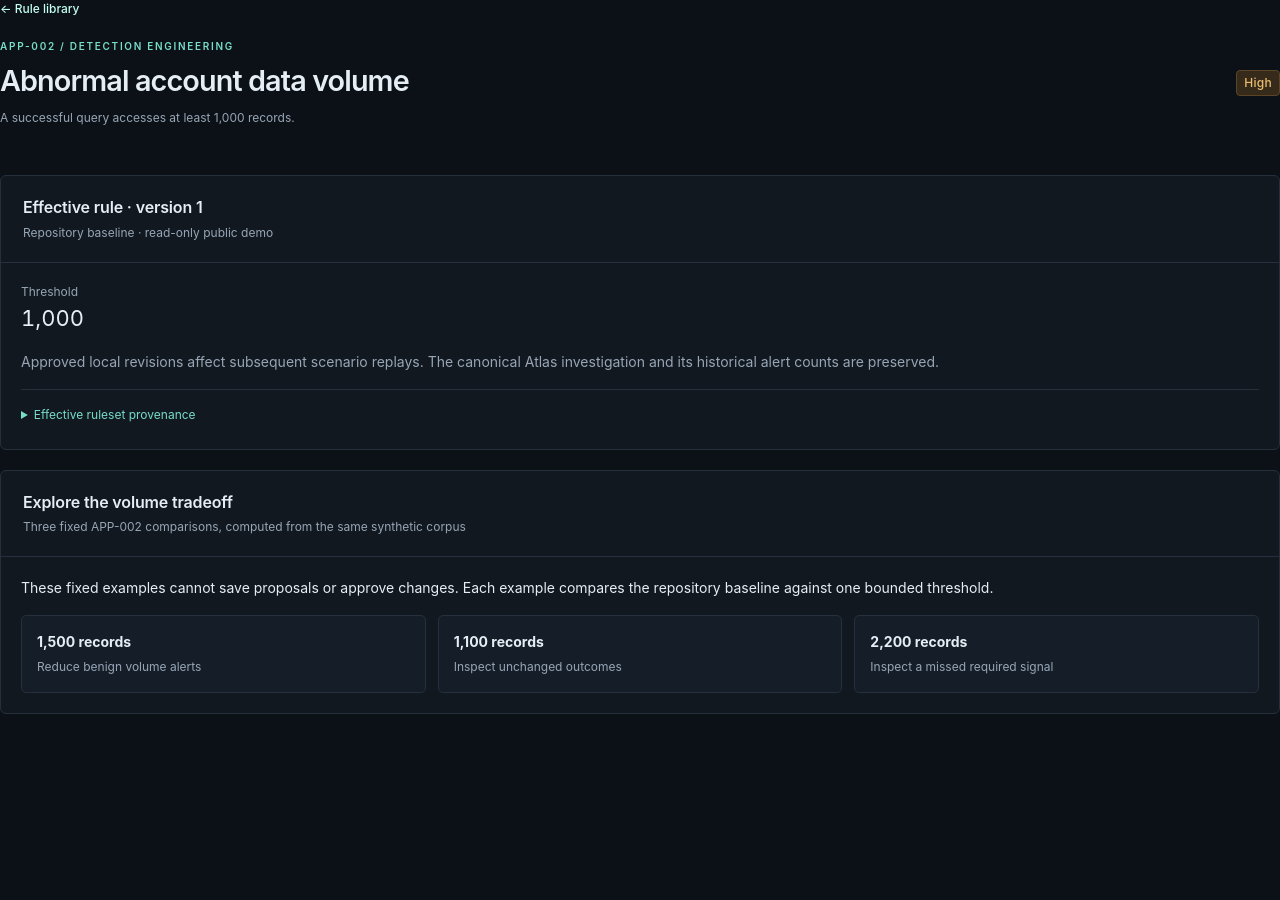
Test: detection workbench › keeps public examples read-only and labels their actual populations
Click the button "1,500 records Reduce benign volume alerts". click: (84, 641)
box: [21,615,426,693]
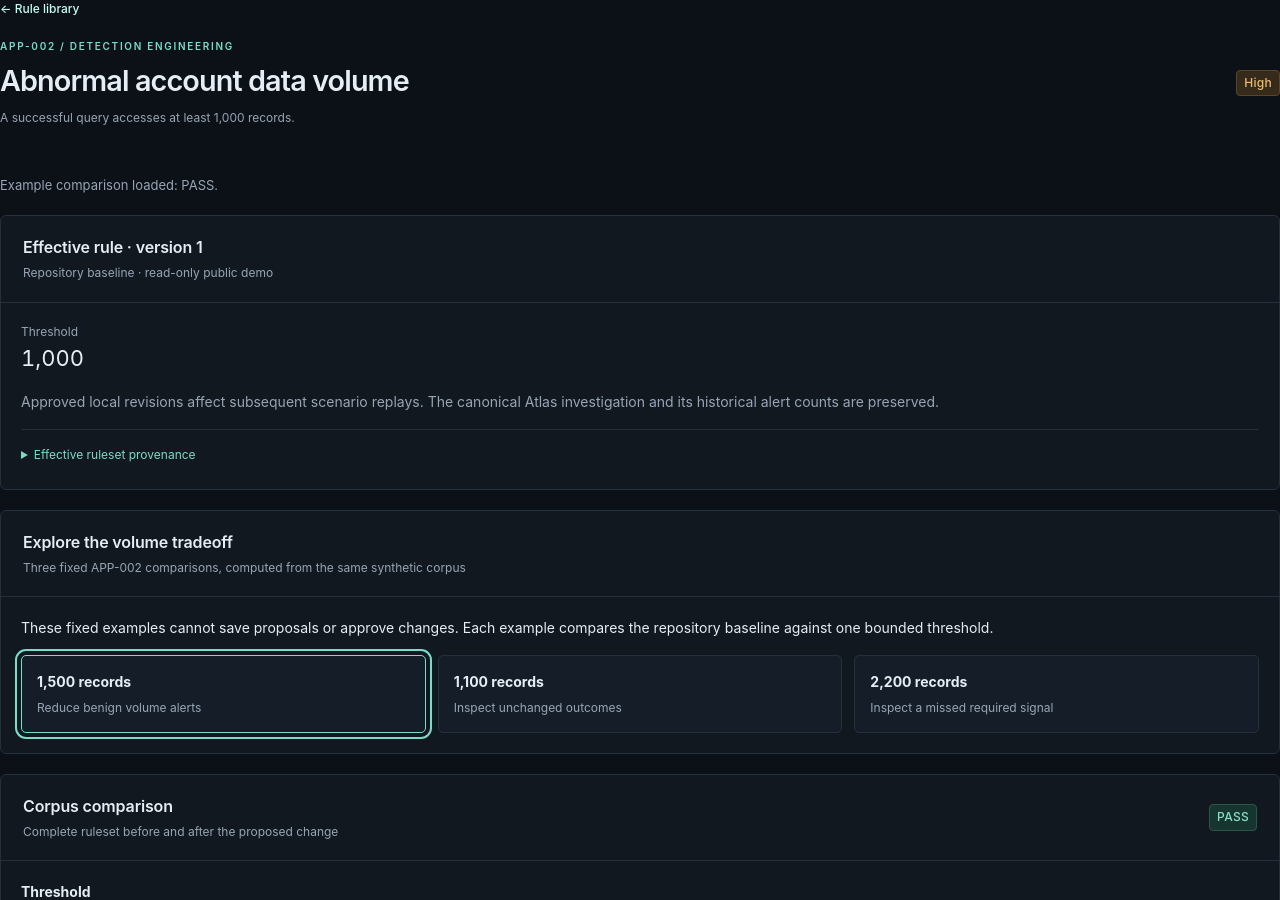
Expected: the text "PASS" is shown, [1209,804,1257,831]
